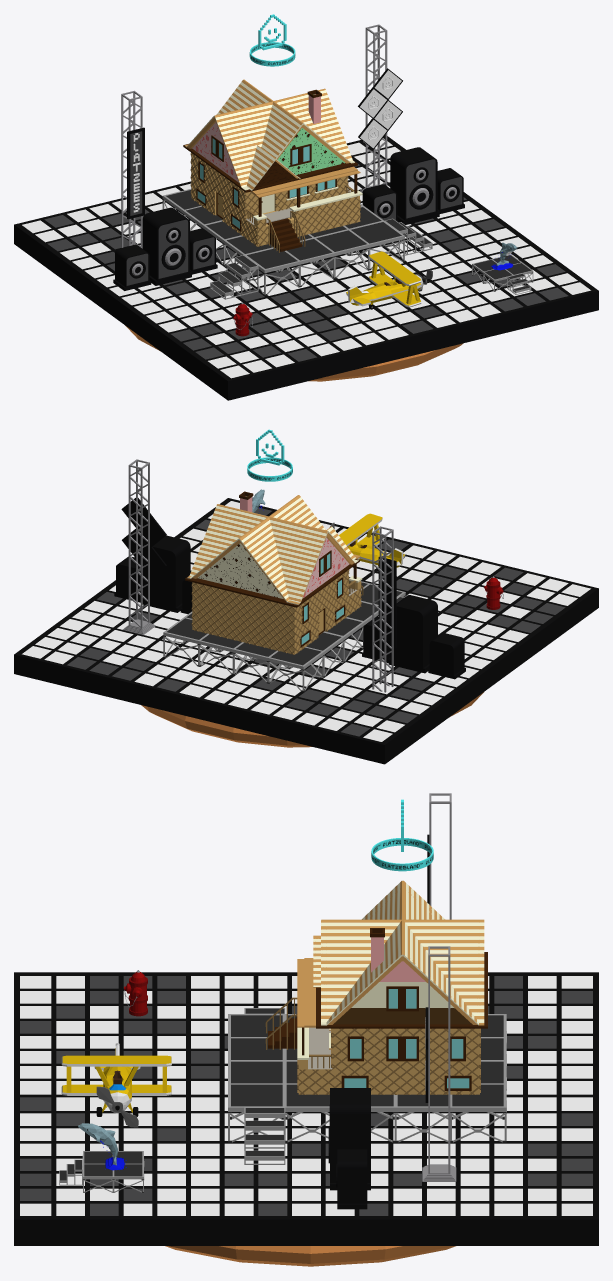
3 renders of one model, top to bottom at view 1: azimuth 30°, elevation 25°; view 2: azimuth 150°, elevation 25°; view 3: azimuth 270°, elevation 25°, orthographic. The views are drawn at different scales.
Visible parts, largest first — view 1: Cube.008, Cube.1102, VEHICLES_AIRPLANE, UNDERGROUND_PIZZA, TYPE_PREMIUM; view 2: Cube.008, Cube.1102, UNDERGROUND_PIZZA, VEHICLES_AIRPLANE, TYPE_PREMIUM, OBJRANDOM_FIRE_HYDRANT; view 3: Cube.008, Cube.1102, VEHICLES_AIRPLANE, UNDERGROUND_PIZZA, TYPE_PREMIUM, ANIMAL_DELFIN, OBJRANDOM_FIRE_HYDRANT.
Boxes of the visible parts, x1=… form: Cube.008: x1=14, y1=24, x2=598, y2=400; Cube.1102: x1=183, y1=79, x2=362, y2=252; VEHICLES_AIRPLANE: x1=346, y1=251, x2=432, y2=309; UNDERGROUND_PIZZA: x1=125, y1=325, x2=463, y2=381; TYPE_PREMIUM: x1=249, y1=14, x2=295, y2=66; Cube.008: x1=14, y1=459, x2=598, y2=764; Cube.1102: x1=185, y1=491, x2=363, y2=654; UNDERGROUND_PIZZA: x1=141, y1=692, x2=483, y2=747; VEHICLES_AIRPLANE: x1=329, y1=513, x2=405, y2=571; TYPE_PREMIUM: x1=247, y1=429, x2=292, y2=481; OBJRANDOM_FIRE_HYDRANT: x1=484, y1=576, x2=503, y2=609; Cube.008: x1=14, y1=793, x2=598, y2=1245; Cube.1102: x1=265, y1=880, x2=487, y2=1094; VEHICLES_AIRPLANE: x1=61, y1=1043, x2=171, y2=1127; UNDERGROUND_PIZZA: x1=165, y1=1246, x2=455, y2=1266; TYPE_PREMIUM: x1=371, y1=799, x2=433, y2=871; ANIMAL_DELFIN: x1=78, y1=1123, x2=126, y2=1170; OBJRANDOM_FIRE_HYDRANT: x1=124, y1=970, x2=147, y2=1016.
Size of the model in its own units: 4000 by 2723 by 4000.
Materials: 45 (3 with a texture image).
